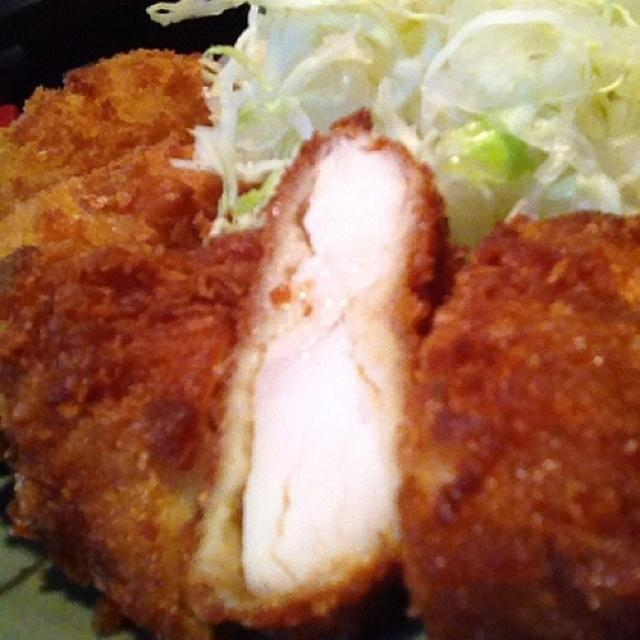鸡肉料理 含炸鸡: (4, 18, 634, 626)
